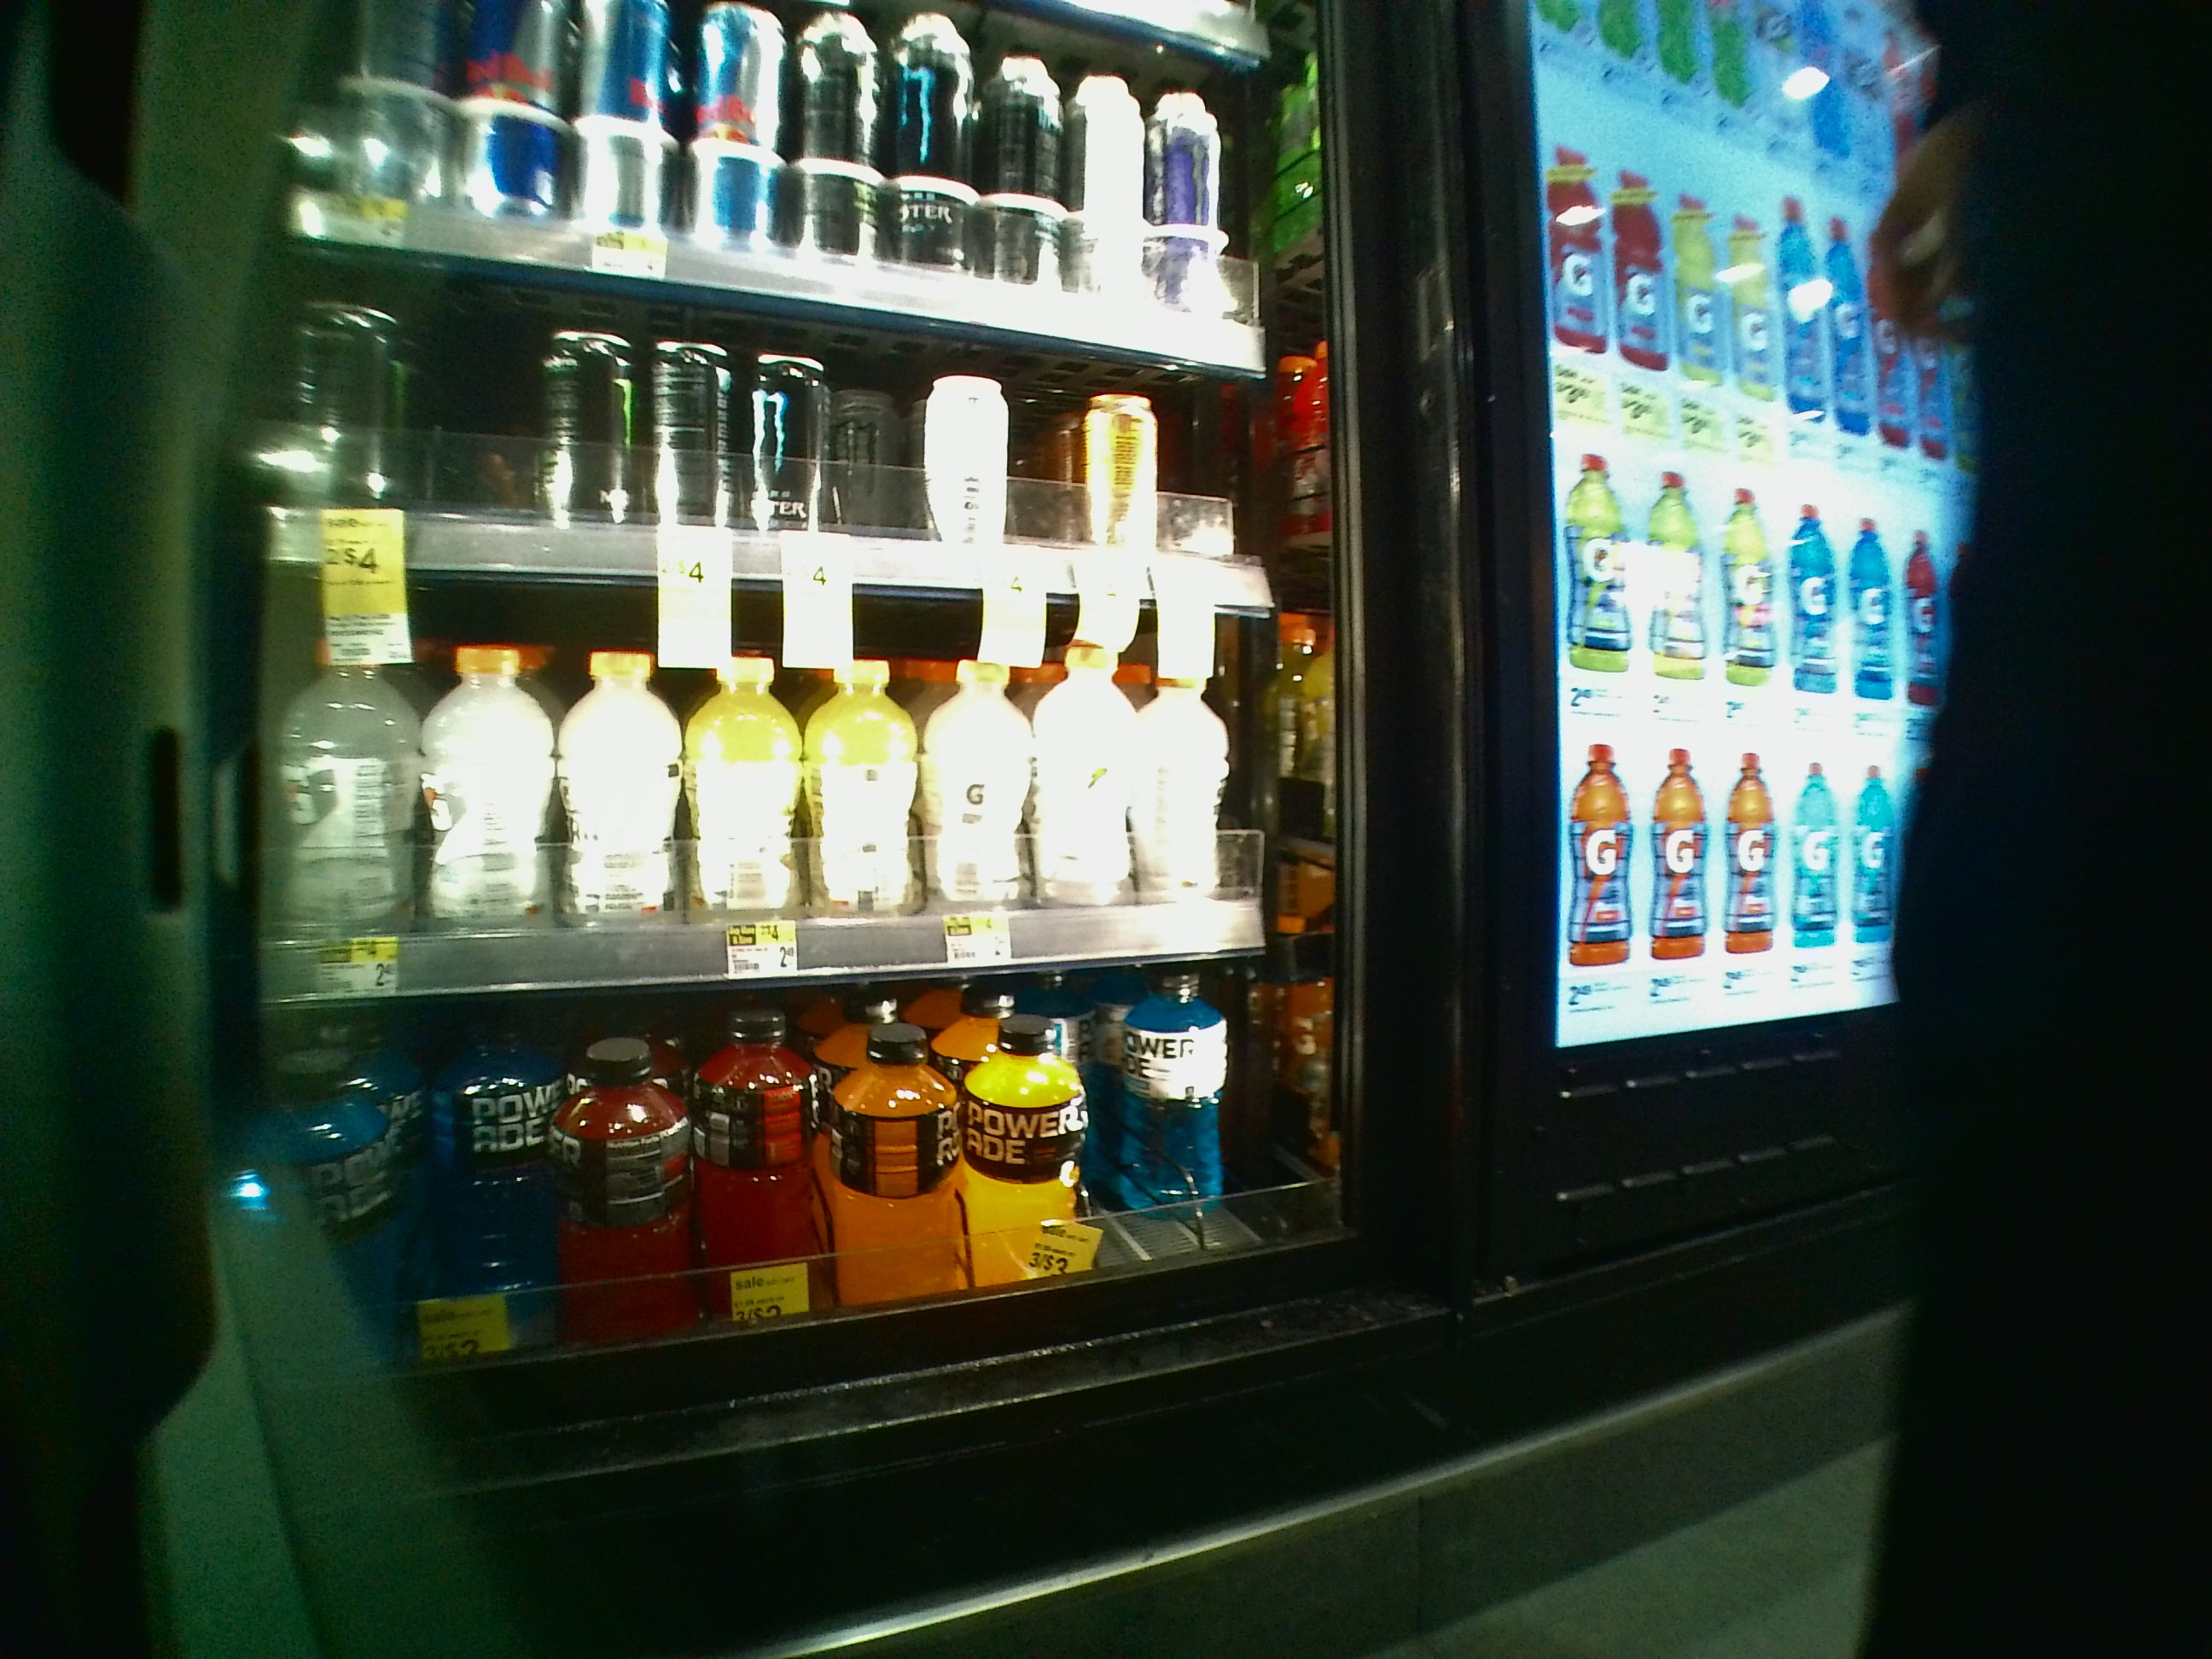shelf: (212, 962, 1378, 1364), (218, 556, 1371, 958)
